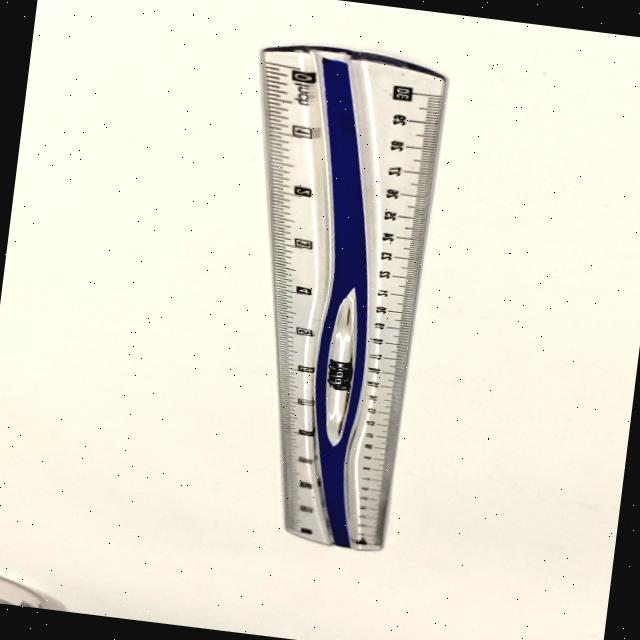Scale: (240, 28, 486, 570)
